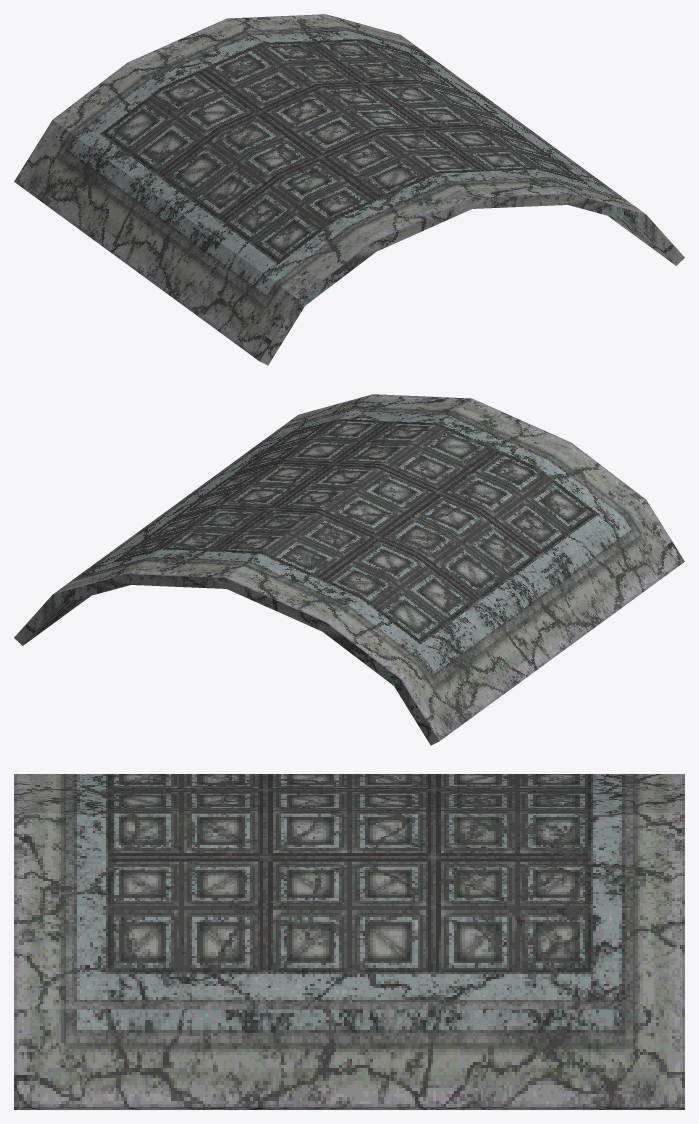
The model's file is roof_set2_05.gltf.
3 renders of one model, top to bottom at view 1: azimuth 30°, elevation 25°; view 2: azimuth 150°, elevation 25°; view 3: azimuth 270°, elevation 25°, orthographic. The views are drawn at different scales.
Visible parts, largest first — view 1: roof_set2_05; view 2: roof_set2_05; view 3: roof_set2_05.
Boxes of the visible parts, bbox=[...] form: roof_set2_05: bbox=[14, 14, 684, 365]; roof_set2_05: bbox=[14, 394, 684, 745]; roof_set2_05: bbox=[14, 774, 684, 1109].
Bounding box in the file's own units: 4 × 1.06 × 4.
Materials: 1 (1 with a texture image).
